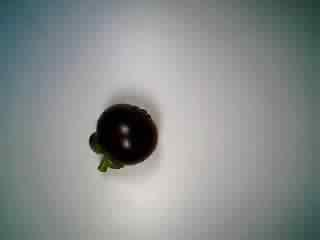mangosteen: (84, 99, 165, 179)
